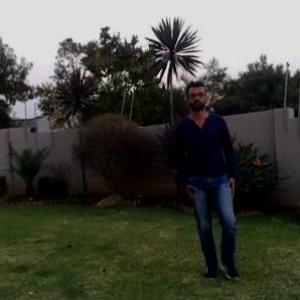follow: (170, 56, 248, 293)
